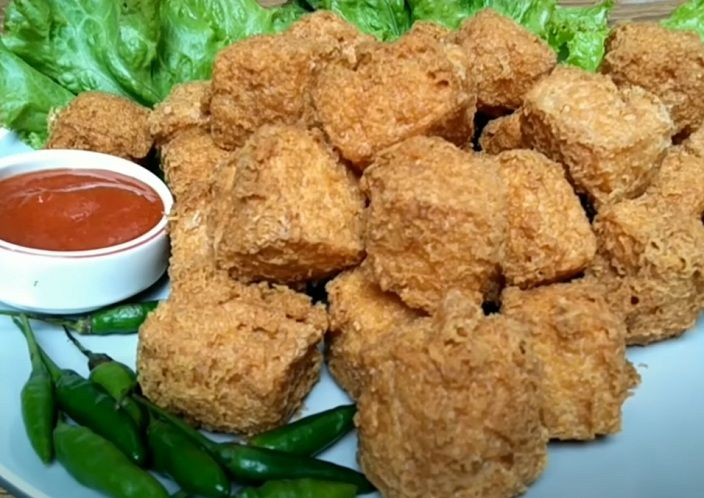Tahu: (350, 313, 539, 488), (334, 146, 500, 328), (117, 268, 311, 403), (523, 267, 630, 429), (470, 155, 591, 278), (248, 134, 348, 271), (345, 46, 465, 147)
